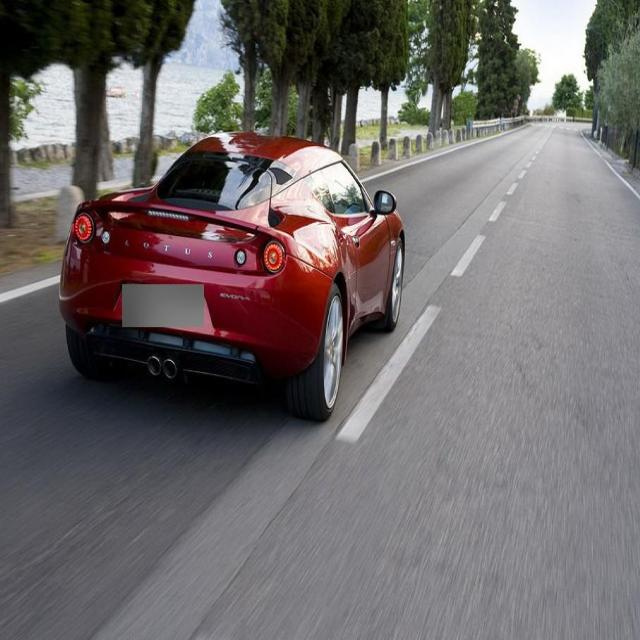back_glass: (154, 147, 300, 211)
back_left_side_light: (70, 212, 96, 245)
back_right_side_light: (262, 239, 286, 278)
front_right_side_door: (316, 157, 392, 322)
front_right_side_mirror: (371, 188, 398, 218)
rear_bumper: (56, 226, 341, 377)
wheel: (281, 280, 346, 423), (366, 237, 406, 333)
